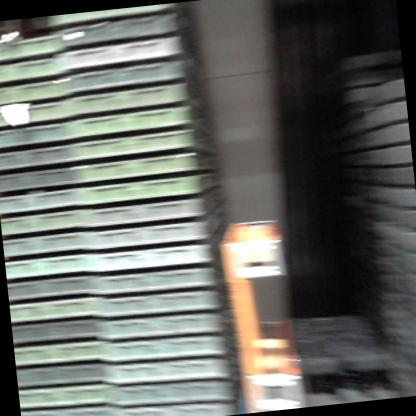pallet: (210, 207, 314, 412)
